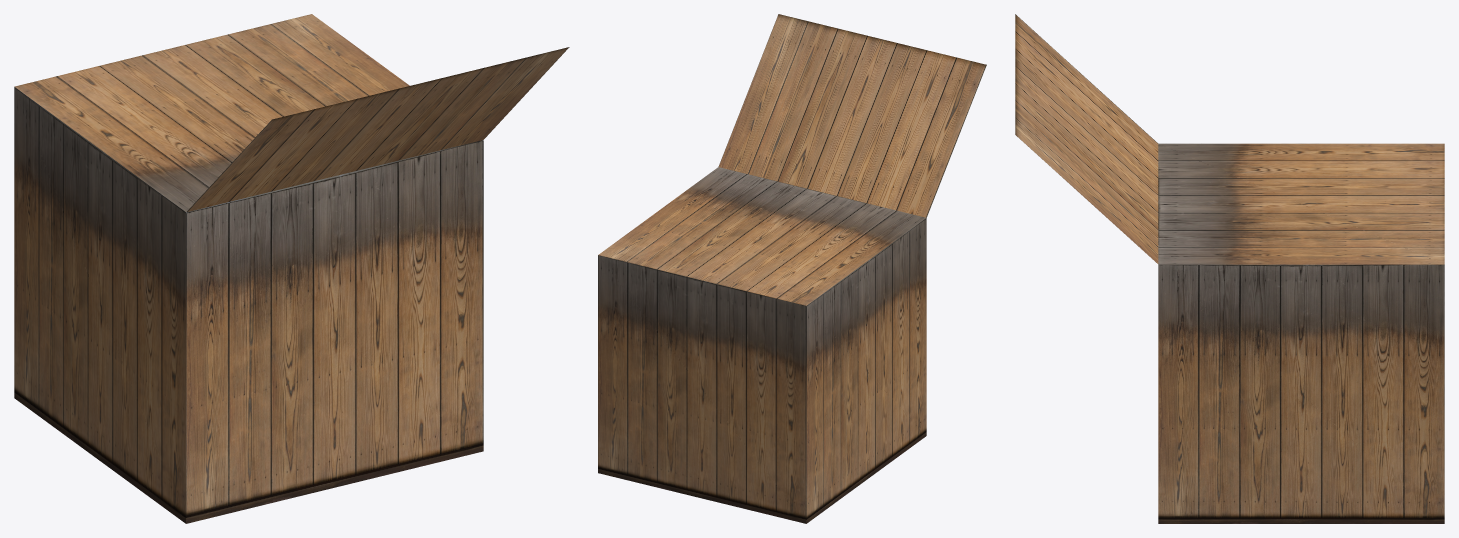
File: krueppelkiste.obj
The picture shows the model from 3 angles, left to right: view 1: azimuth 30°, elevation 25°; view 2: azimuth 150°, elevation 25°; view 3: azimuth 270°, elevation 25°; orthographic projection. The views are drawn at different scales.
Parts seen in each view (by area): view 1: Cube; view 2: Cube; view 3: Cube.
Boxes of the visible parts, left/top/right/bottom form: Cube: left=14, top=14, right=569, bottom=523; Cube: left=598, top=14, right=986, bottom=523; Cube: left=1015, top=14, right=1444, bottom=523.
Size of the model in its own units: 2 by 3 by 3.
1 material, 1 textured.
